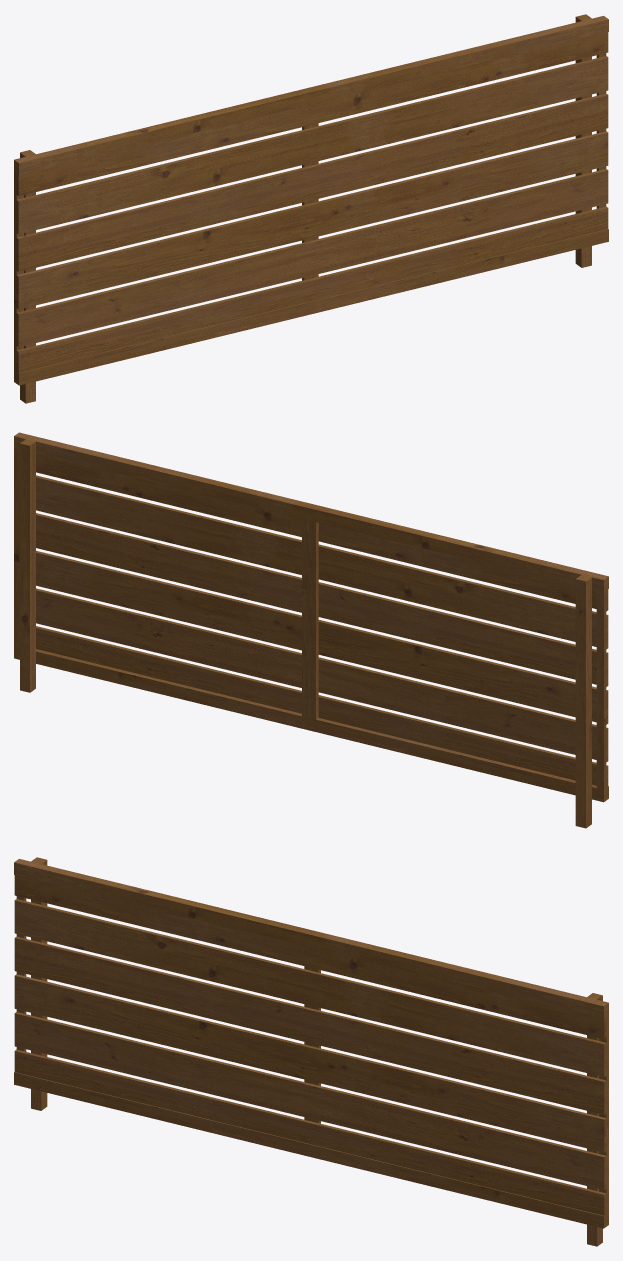
File: everartfencekabenashi_720-1998_naturalpine.fbx
3 renders of one model, top to bottom at view 1: azimuth 30°, elevation 25°; view 2: azimuth 150°, elevation 25°; view 3: azimuth 330°, elevation 25°, orthographic.
Parts seen in each view (by area): view 1: everartfencekabenashi_720-1998_naturalpine; view 2: everartfencekabenashi_720-1998_naturalpine; view 3: everartfencekabenashi_720-1998_naturalpine.
Boxes of the visible parts, x1,y1,x2,y2 form: everartfencekabenashi_720-1998_naturalpine: (14, 14, 608, 403); everartfencekabenashi_720-1998_naturalpine: (14, 432, 608, 828); everartfencekabenashi_720-1998_naturalpine: (14, 857, 608, 1246).
Size of the model in its own units: 200 by 80 by 6.5.
1 material, 1 textured.
